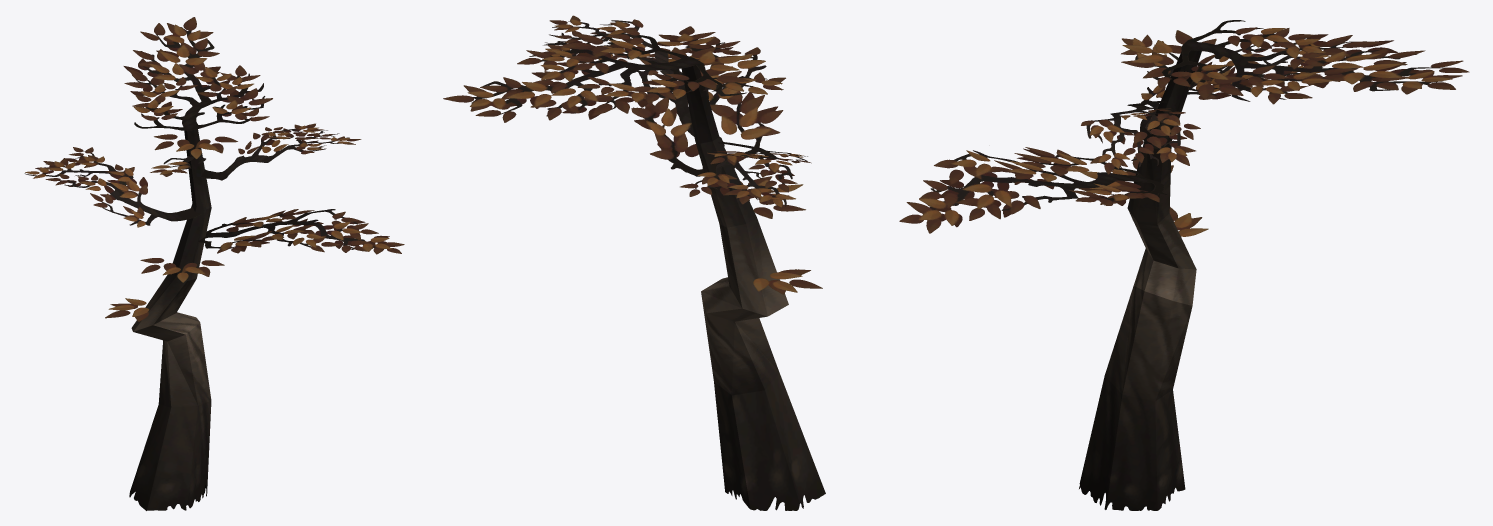
File: cherrytree_dead_small_01.fbx
3 views of the same model, side by side, from view 1: azimuth 30°, elevation 25°; view 2: azimuth 150°, elevation 25°; view 3: azimuth 270°, elevation 25° (orthographic). The views are drawn at different scales.
Visible parts, largest first — view 1: obj1.070; view 2: obj1.070; view 3: obj1.070.
Boxes of the visible parts, bbox=[...] form: obj1.070: bbox=[24, 17, 404, 510]; obj1.070: bbox=[443, 15, 825, 510]; obj1.070: bbox=[899, 20, 1469, 510].
Bounding box in the file's own units: 3.94 × 4.92 × 5.33.
